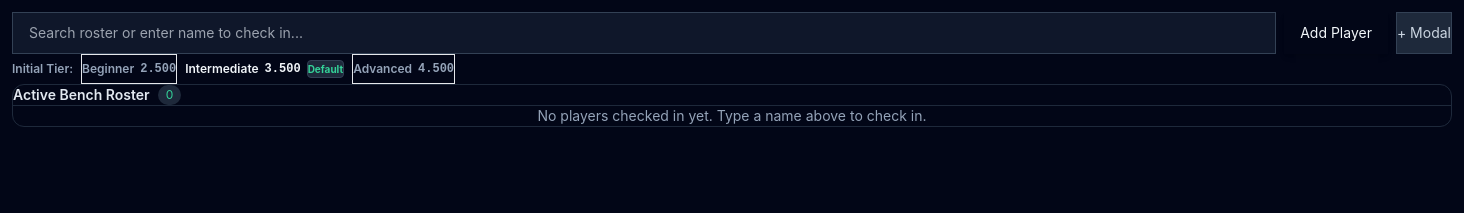
RosterCheckInList › checks in a new player via 1-tap button and adds to active bench
The image size is (1464, 213).
Step 1. Type "Marcus Gideon" into the field with placeholder "Search roster or enter name to check in..." → (644, 33), box top-left (12, 12), bottom-right (1276, 54)
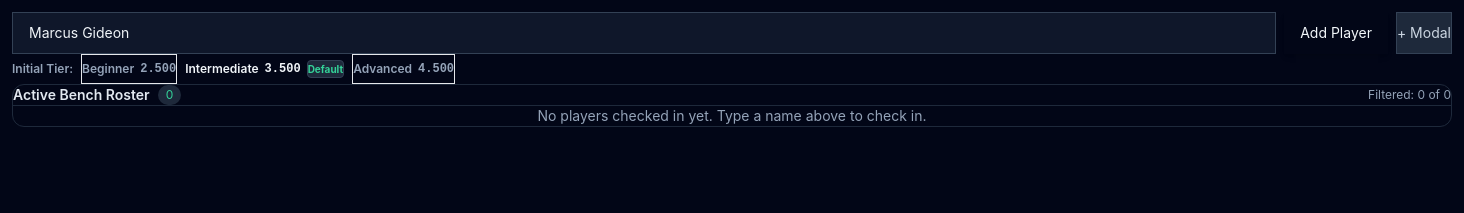
Step 2. Click the button "Add Player" → (1336, 33), box top-left (1284, 12), bottom-right (1388, 54)
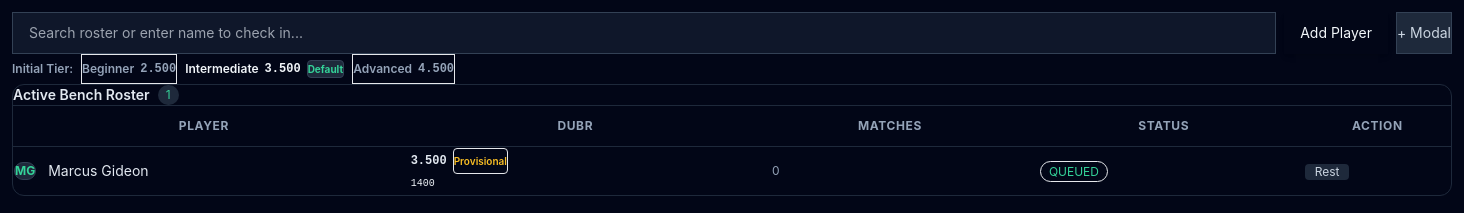
Now the text "Marcus Gideon" is shown, box top-left (48, 161), bottom-right (149, 181)
Now the text "3.500" next to "Provisional" is shown, box top-left (411, 154), bottom-right (447, 168)
Now the text "1400" is shown, box top-left (411, 178), bottom-right (435, 189)
